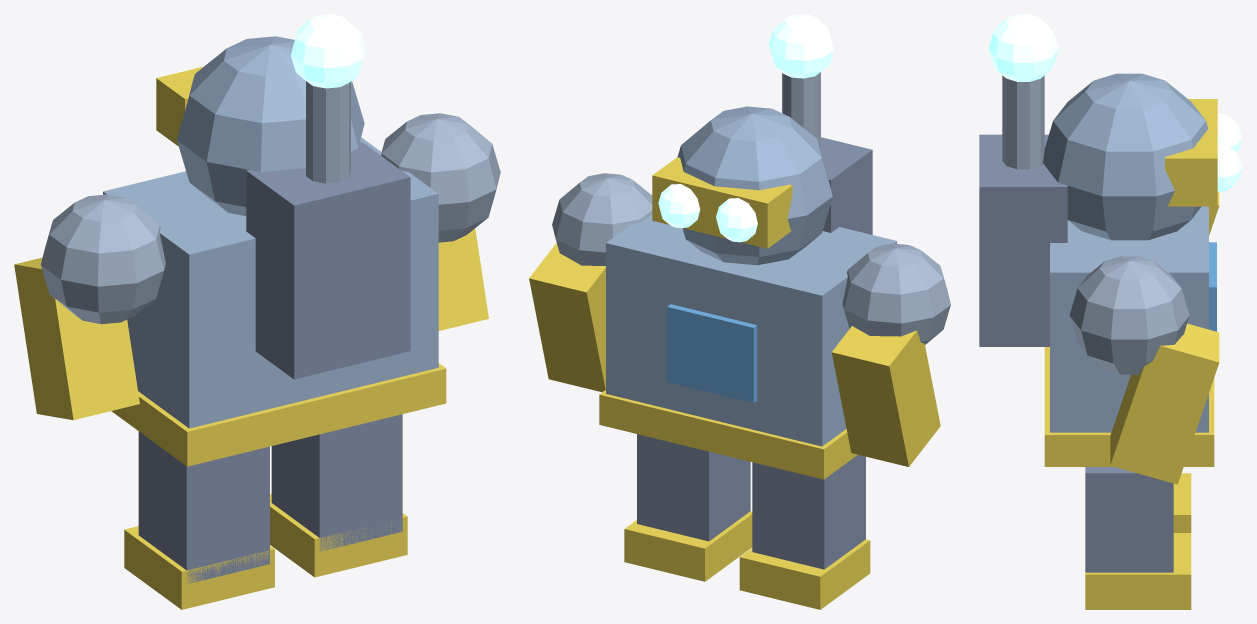
Rendered from sparky.glb.
The picture shows the model from 3 angles, left to right: view 1: azimuth 30°, elevation 25°; view 2: azimuth 150°, elevation 25°; view 3: azimuth 270°, elevation 25°; orthographic projection. The views are drawn at different scales.
Visible parts, largest first — view 1: sparky; view 2: sparky; view 3: sparky.
Boxes of the visible parts, x1,y1,x2,y2 form: sparky: (14, 14, 500, 609); sparky: (529, 14, 950, 609); sparky: (979, 14, 1242, 609).
Bounding box in the file's own units: 2.65 × 3.39 × 1.49.
